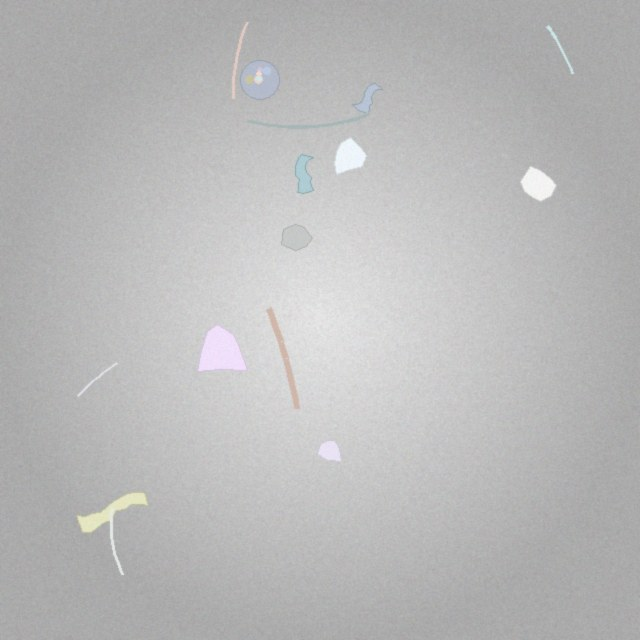fiber: (263, 302, 303, 415), (243, 111, 373, 132), (545, 23, 576, 77), (230, 19, 250, 102), (75, 362, 118, 399), (108, 504, 126, 578)
film: (77, 492, 149, 533), (352, 83, 382, 113), (295, 155, 313, 193)
foam: (241, 60, 280, 99)
fragment: (198, 325, 247, 371), (521, 167, 557, 201), (335, 138, 367, 174), (281, 224, 312, 250), (318, 440, 342, 463)
